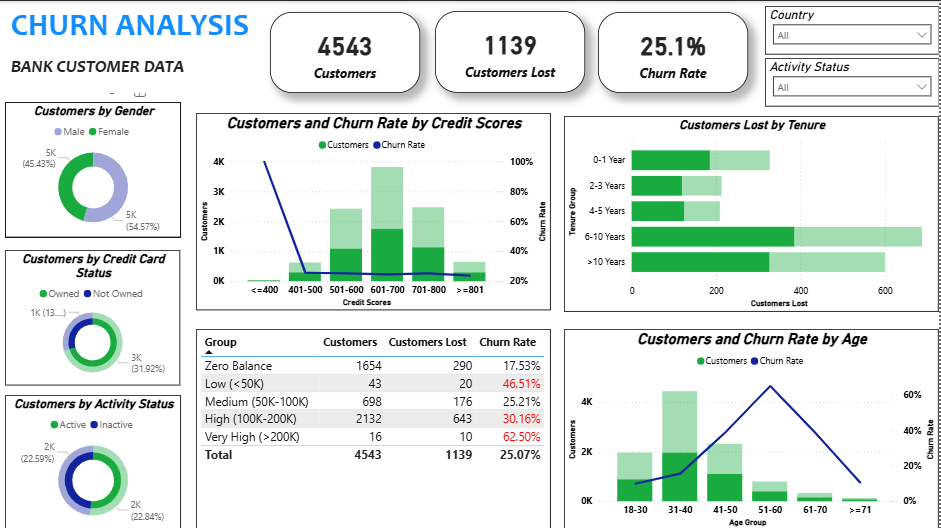

Layout of this report page (visuals, bound fields, positions):
{"tool":"powerbi","page":{"name":"Page 2","canvas":[1280,720],"ordinal":1},"visuals":[{"type":"lineClusteredColumnComboChart","title":"Customers and Churn Rate by Credit Scores","fields":{"Y2":["Bank Customer Churn Prediction.Churn Rate"],"Y":["Bank Customer Churn Prediction.Total Customers"],"Category":["Credit Score Group.Credit Scores"]},"box":[269.8,152.8,481.7,268.4],"z":0},{"type":"lineClusteredColumnComboChart","title":"Customers and Churn Rate by Age","fields":{"Y2":["Bank Customer Churn Prediction.Churn Rate"],"Y":["Bank Customer Churn Prediction.Total Customers"],"Category":["Age Groups (2).Age Group"]},"box":[770.8,445.9,509.2,273.9],"z":1000},{"type":"donutChart","title":"Customers by Gender","fields":{"Y":["Bank Customer Churn Prediction.Total Customers"],"Category":["Bank Customer Churn Prediction.gender"]},"box":[11,137.6,239.5,184.4],"z":2000},{"type":"textbox","box":[13.8,0,356.5,125.2],"z":3000},{"type":"card","fields":{"Values":["Bank Customer Churn Prediction.Customers"]},"box":[370.2,15.1,203.7,110.1],"z":4000},{"type":"donutChart","title":"Customers by Activity Status","fields":{"Y":["Bank Customer Churn Prediction.Total Customers"],"Category":["Bank Customer Churn Prediction.active_member"]},"box":[11,535.4,239.5,184.4],"z":5000},{"type":"donutChart","title":"Customers by Credit Card Status","fields":{"Y":["Bank Customer Churn Prediction.Total Customers"],"Category":["Bank Customer Churn Prediction.credit_card"]},"box":[11,338.6,238.1,184.4],"z":6000},{"type":"tableEx","fields":{"Values":["Acct Balance Group.Group","Bank Customer Churn Prediction.Customers","Bank Customer Churn Prediction.Customers Lost","Bank Customer Churn Prediction.Churn Rate"]},"box":[269.8,445.9,481.7,273.9],"z":7000},{"type":"card","fields":{"Values":["Bank Customer Churn Prediction.Customers Lost"]},"box":[594.6,13.8,203.7,111.5],"z":8000},{"type":"card","fields":{"Values":["Bank Customer Churn Prediction.Churn Rate"]},"box":[816.2,15.1,203.7,110.1],"z":9000},{"type":"slicer","title":"Country","fields":{"Values":["Bank Customer Churn Prediction.country"]},"box":[1043.3,6.9,236.7,66.1],"z":10000},{"type":"barChart","title":"Customers Lost by Tenure ","fields":{"Category":["Tenure Group.Tenure Group"],"Y":["Bank Customer Churn Prediction.Customers Lost"]},"box":[770.8,156.9,509.2,265.6],"z":11000},{"type":"slicer","title":"Activity Status","fields":{"Values":["Bank Customer Churn Prediction.active_member"]},"box":[1043.3,77.1,236.7,66.1],"z":11001}]}

Visuals, with their boxes in screenshot pixels (x1, y1, x2, y2), scaled from the page's 1280x720 canvas onto the 941x528 screenshot:
"Customers and Churn Rate by Credit Scores" lineClusteredColumnComboChart: [198,112,552,309]
"Customers and Churn Rate by Age" lineClusteredColumnComboChart: [567,327,940,527]
"Customers by Gender" donutChart: [8,101,184,236]
textbox: [10,0,272,92]
card - Bank Customer Churn Prediction.Customers: [272,11,422,92]
"Customers by Activity Status" donutChart: [8,393,184,527]
"Customers by Credit Card Status" donutChart: [8,248,183,384]
tableEx - Acct Balance Group.Group x Bank Customer Churn Prediction.Customers: [198,327,552,527]
card - Bank Customer Churn Prediction.Customers Lost: [437,10,587,92]
card - Bank Customer Churn Prediction.Churn Rate: [600,11,750,92]
"Country" slicer: [767,5,940,54]
"Customers Lost by Tenure " barChart: [567,115,940,310]
"Activity Status" slicer: [767,57,940,105]
